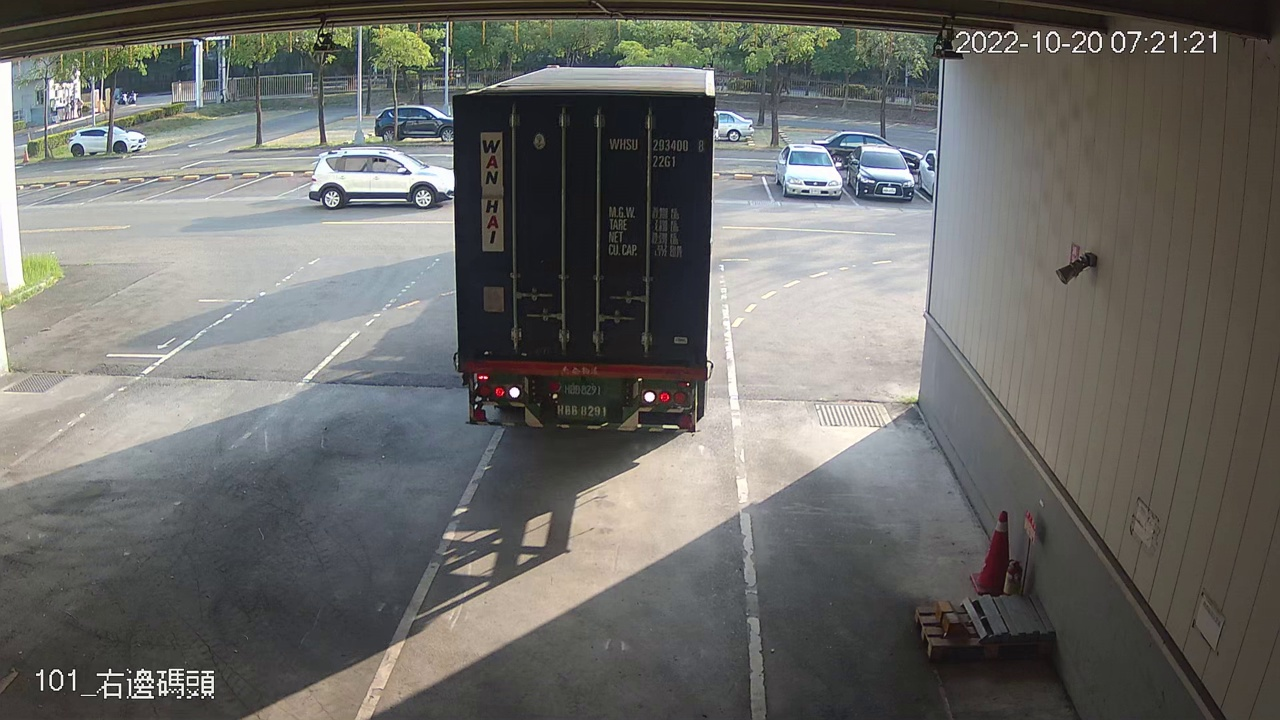container: (600, 132, 709, 174)
